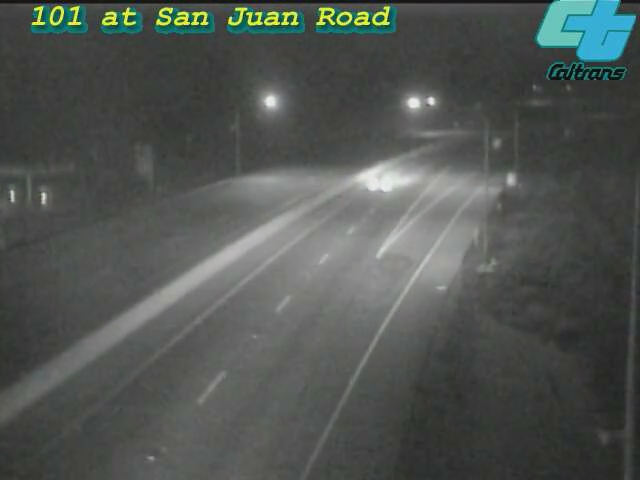vehicle: (339, 143, 419, 223)
